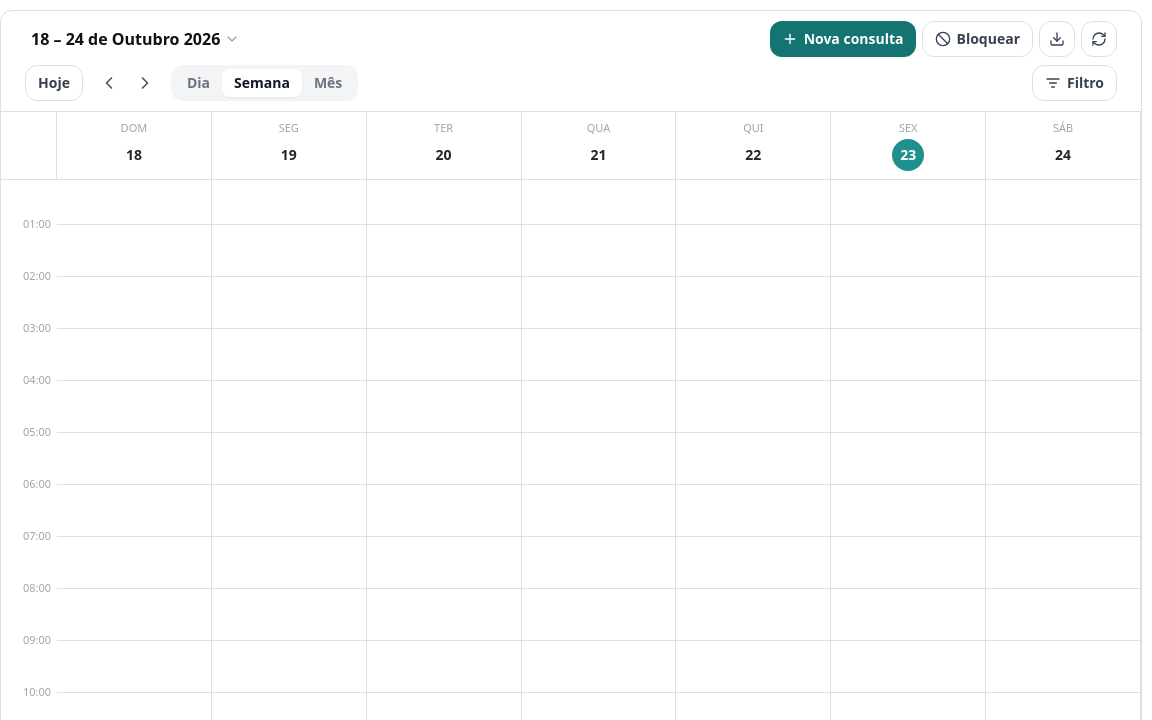
Test: AgendaPage — bloqueios e feriados (MIG-05) › quem tem Agenda vê 'Bloquear horário', que abre o modal
Click the button with aria-label "Bloquear horário" at (977, 39), box [922,21,1033,57]
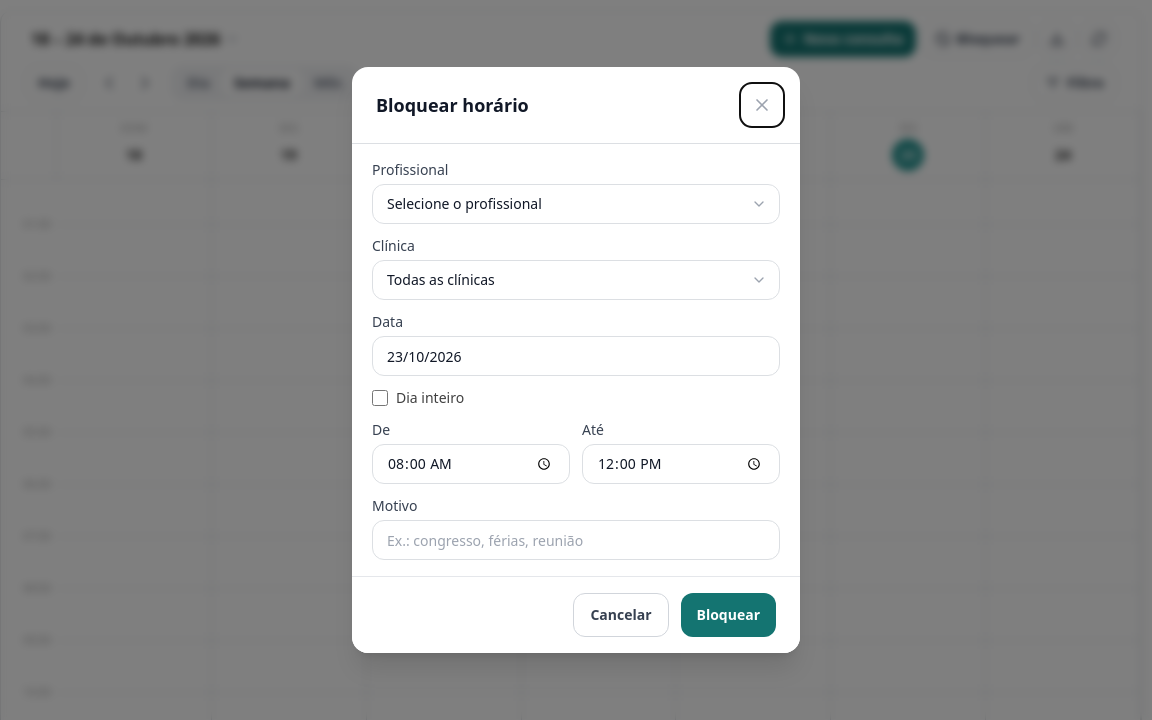
Result: the dropdown labelled "Profissional" is shown at [372,184,780,224]
